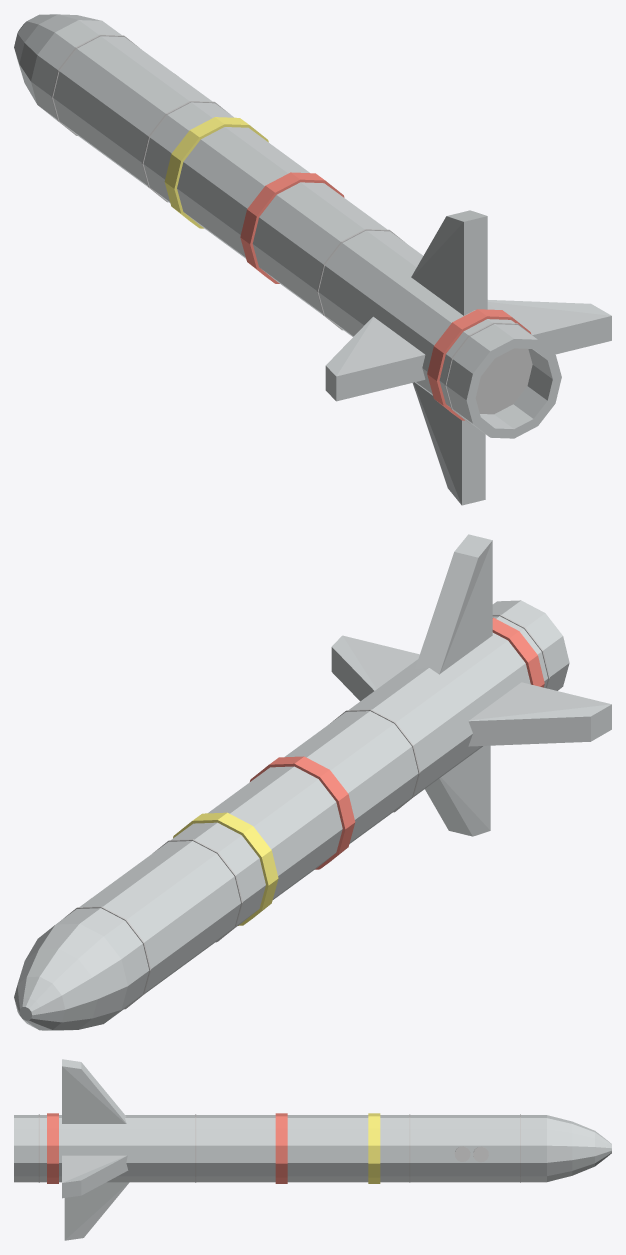
File: missle.dae
The picture shows the model from 3 angles, top to bottom: view 1: azimuth 30°, elevation 25°; view 2: azimuth 150°, elevation 25°; view 3: azimuth 270°, elevation 25°; orthographic projection. The views are drawn at different scales.
Visible parts, largest first — view 1: model; view 2: model; view 3: model.
Part boxes in pixels (bbox=[...]): model: bbox=[14, 14, 611, 505]; model: bbox=[14, 534, 611, 1030]; model: bbox=[14, 1059, 611, 1240].
Bounding box in the file's own units: 1.59 × 4.97 × 1.6.
